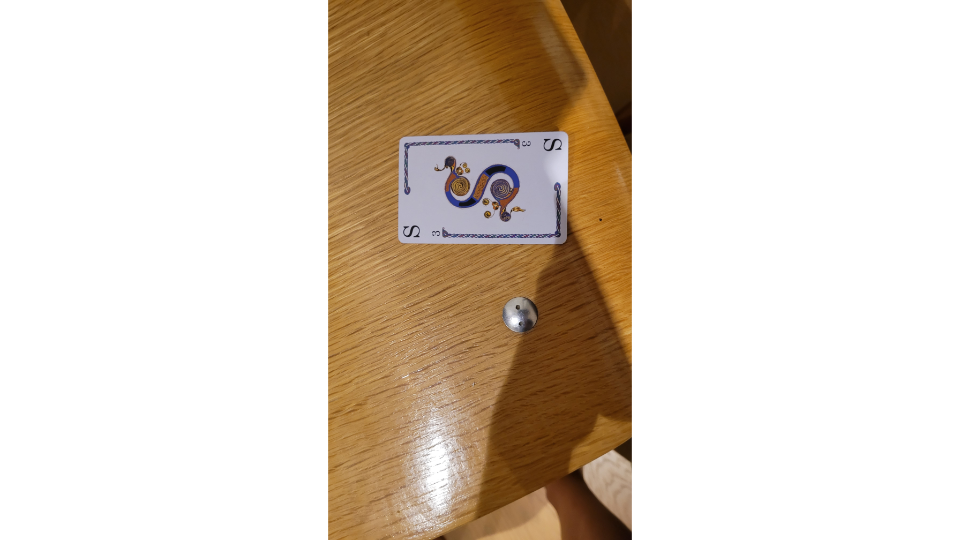S: (393, 128, 577, 248)
